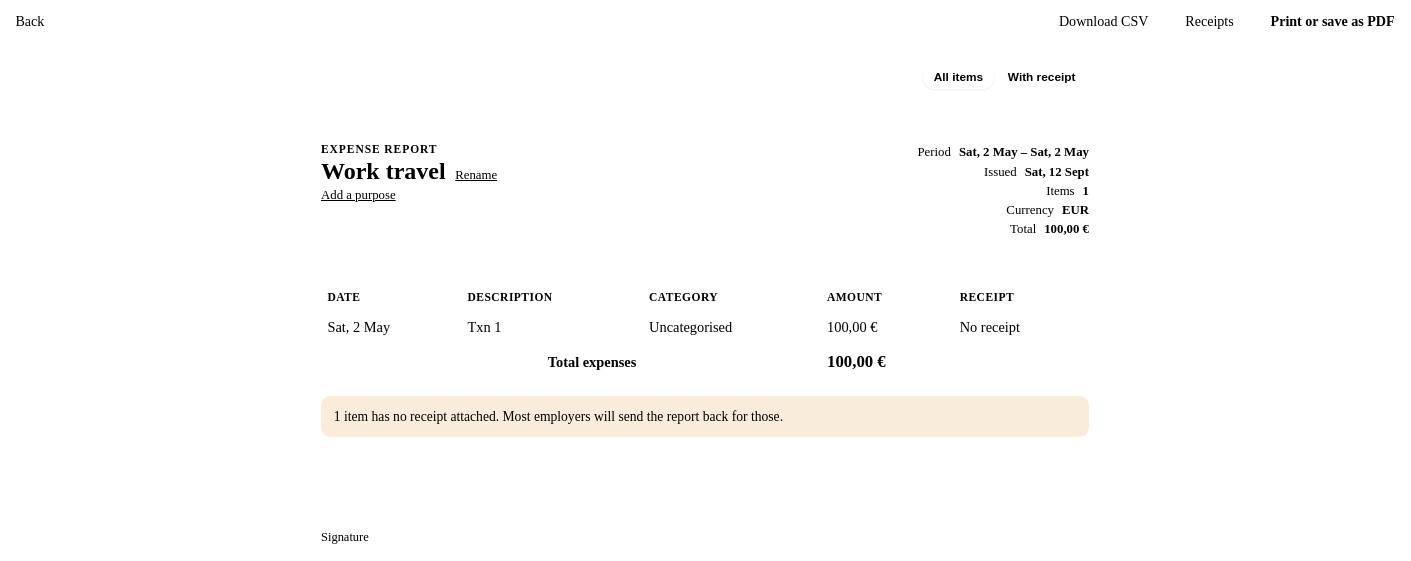
Test case: ExpenseReportView — renaming the claim › discards the edit on Escape
The width and height of the screenshot is (1411, 561).
Click the button "Rename" at point(476, 175), box [455,168,497,183]
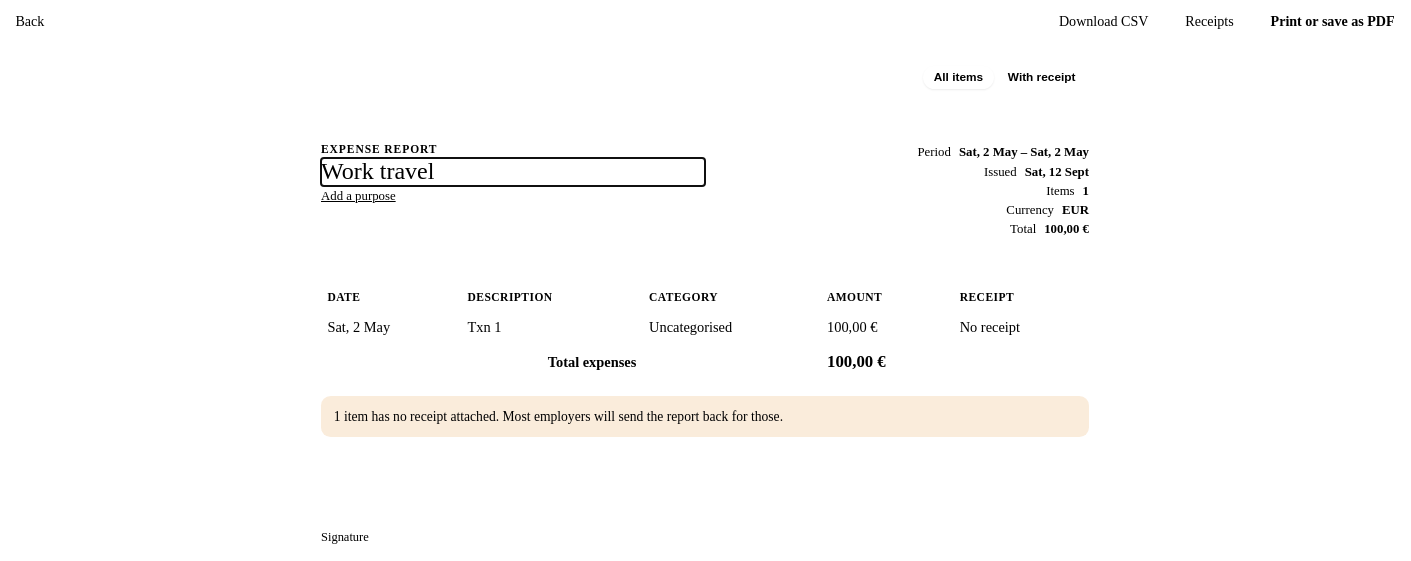
Type " — draft" into the field named "Report title" at point(513, 172), box [321,158,705,186]
Then press Escape
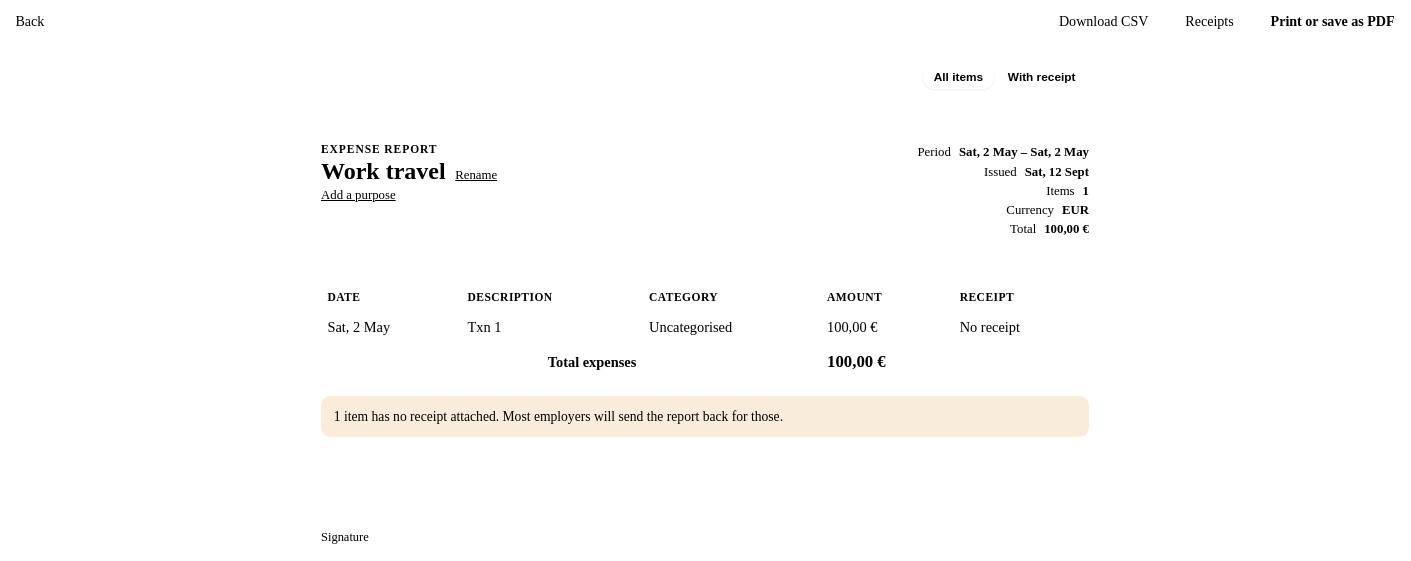
Now the heading "Work travel" is shown, box [321,158,446,185]
